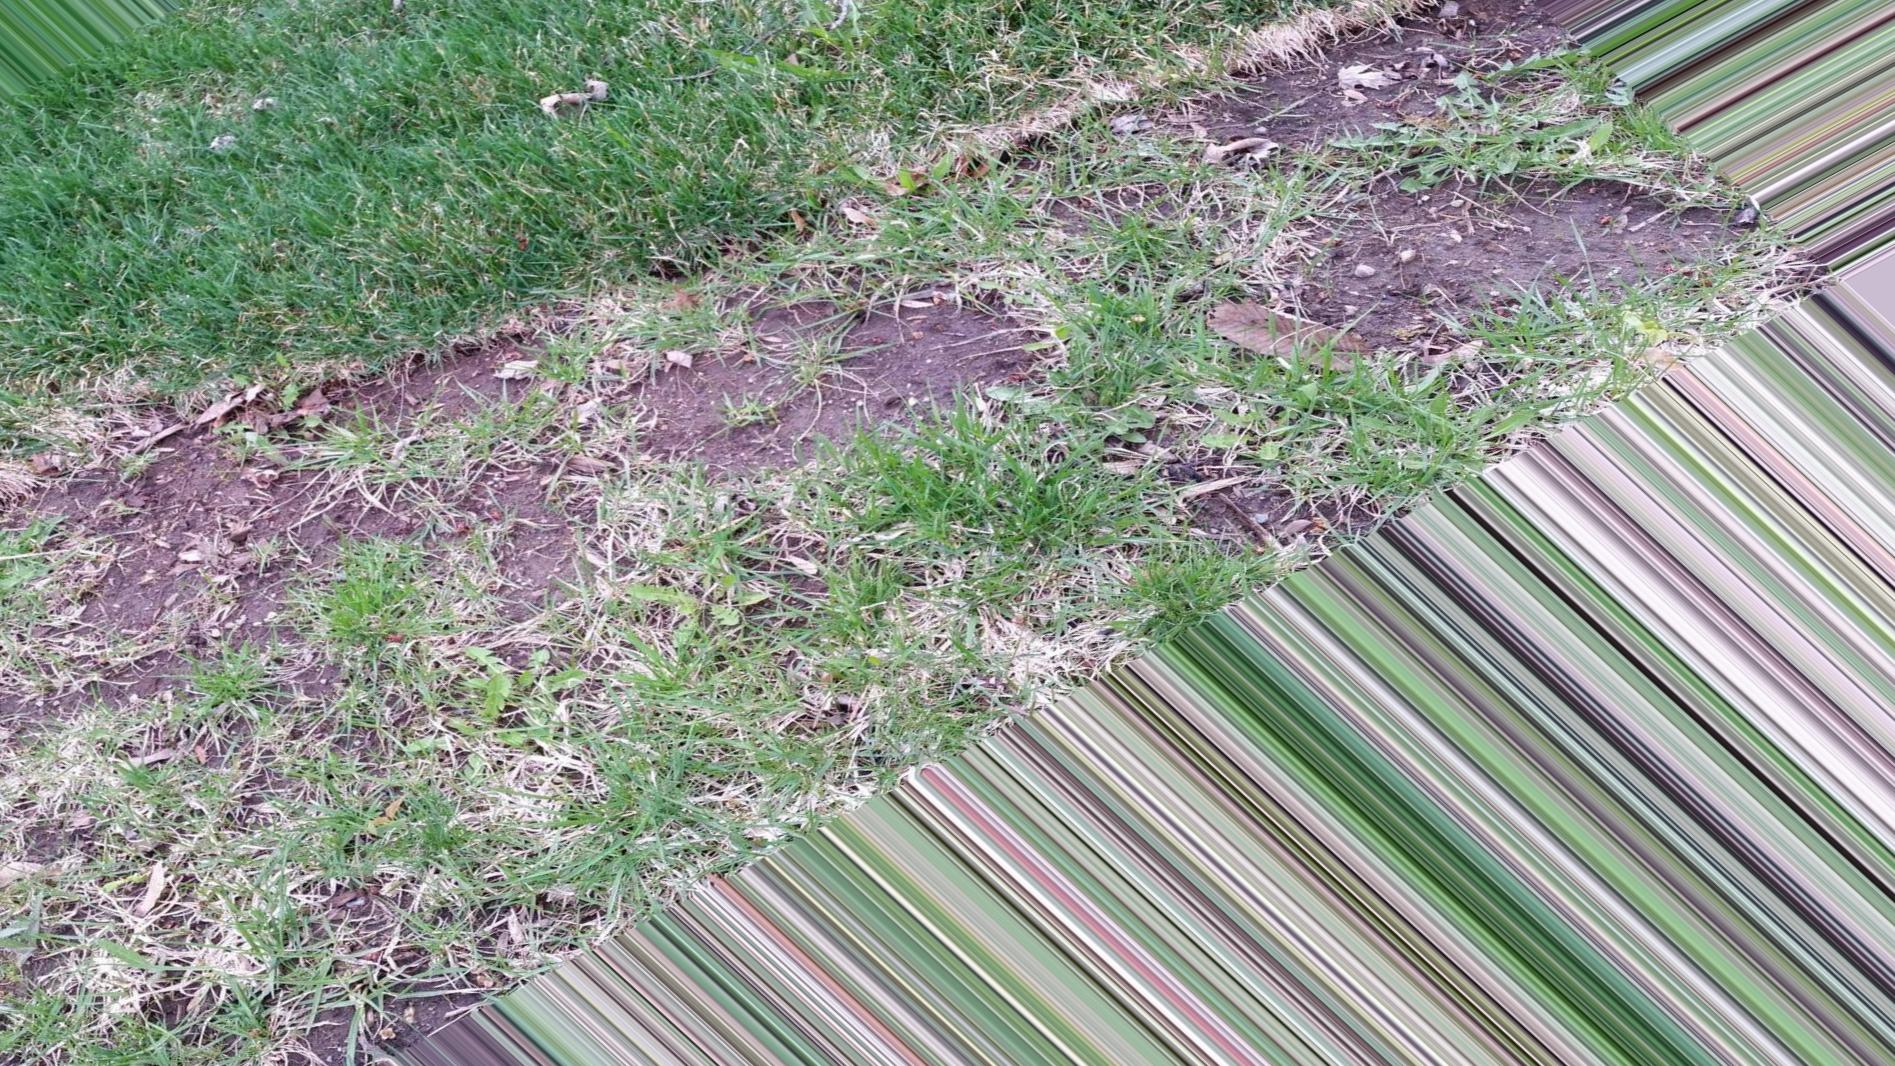patch: (729, 329, 832, 443), (856, 307, 1000, 375), (1443, 197, 1561, 262), (89, 594, 186, 664), (150, 436, 207, 493)
